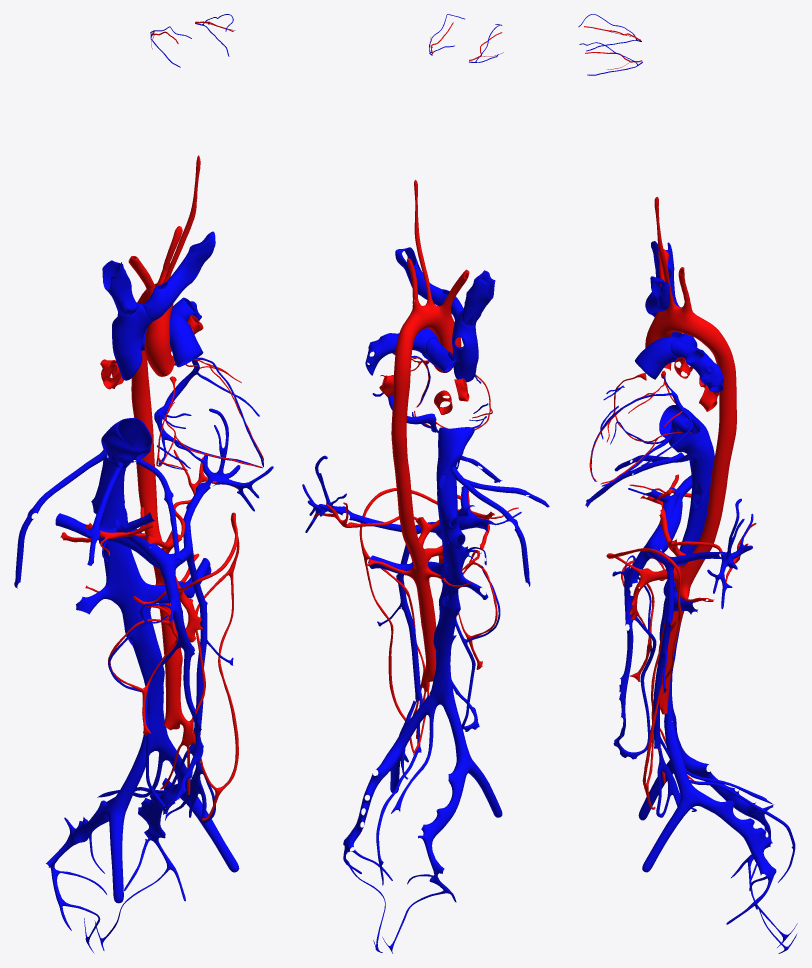
The model's file is vasculature.glb.
3 views of the same model, side by side, from view 1: azimuth 30°, elevation 25°; view 2: azimuth 150°, elevation 25°; view 3: azimuth 270°, elevation 25° (orthographic). The views are drawn at different scales.
Parts seen in each view (by area): view 1: VH_M_inferior_vena_cava_b, VH_M_descending_aorta_b, VH_M_superior_mesenteric_vein, VH_M_inferior_vena_cava_a, VH_M_splenic_vein, VH_M_brachiocephalic_vein_L, VH_M_superior_vena_cava, VH_M_marginal_artery_of_Drummond, VH_M_descending_aorta_a, VH_M_inferior_mesenteric_vein, VH_M_brachiocephalic_vein_R, VH_M_pulmonary_trunk (+18 smaller); view 2: VH_M_inferior_vena_cava_b, VH_M_descending_aorta_b, VH_M_descending_aorta_a, VH_M_inferior_vena_cava_a, VH_M_internal_iliac_vein_R, VH_M_aortic_arch, VH_M_superior_vena_cava, VH_M_splenic_vein, VH_M_brachiocephalic_vein_R, VH_M_brachiocephalic_vein_L, VH_M_internal_iliac_vein_L, VH_M_marginal_artery_of_Drummond (+8 smaller); view 3: VH_M_descending_aorta_a, VH_M_descending_aorta_b, VH_M_inferior_vena_cava_b, VH_M_inferior_vena_cava_a, VH_M_internal_iliac_vein_L, VH_M_aortic_arch, VH_M_splenic_vein, VH_M_superior_mesenteric_vein, VH_M_pulmonary_artery_L, VH_M_inferior_mesenteric_vein, VH_M_marginal_artery_of_Drummond, VH_M_internal_iliac_vein_R (+12 smaller).
Boxes of the visible parts, <box> form: VH_M_inferior_vena_cava_b: <box>91,474,169,753</box>; VH_M_descending_aorta_b: <box>136,459,182,730</box>; VH_M_superior_mesenteric_vein: <box>158,564,203,812</box>; VH_M_inferior_vena_cava_a: <box>101,417,152,482</box>; VH_M_splenic_vein: <box>170,408,273,567</box>; VH_M_brachiocephalic_vein_L: <box>142,231,215,321</box>; VH_M_superior_vena_cava: <box>112,302,152,380</box>; VH_M_marginal_artery_of_Drummond: <box>179,512,239,820</box>; VH_M_descending_aorta_a: <box>131,298,154,461</box>; VH_M_inferior_mesenteric_vein: <box>186,547,207,755</box>; VH_M_brachiocephalic_vein_R: <box>102,260,137,315</box>; VH_M_pulmonary_trunk: <box>169,313,203,367</box>; VH_M_inferior_vena_cava_b: <box>429,489,465,707</box>; VH_M_descending_aorta_b: <box>396,485,436,682</box>; VH_M_descending_aorta_a: <box>391,343,412,489</box>; VH_M_inferior_vena_cava_a: <box>436,427,474,493</box>; VH_M_internal_iliac_vein_R: <box>418,762,468,883</box>; VH_M_aortic_arch: <box>397,304,459,348</box>; VH_M_superior_vena_cava: <box>452,310,478,382</box>; VH_M_splenic_vein: <box>302,455,440,534</box>; VH_M_brachiocephalic_vein_R: <box>461,270,495,325</box>; VH_M_brachiocephalic_vein_L: <box>395,247,463,319</box>; VH_M_internal_iliac_vein_L: <box>343,752,399,853</box>; VH_M_marginal_artery_of_Drummond: <box>359,488,437,752</box>; VH_M_descending_aorta_a: <box>709,334,736,488</box>; VH_M_descending_aorta_b: <box>657,485,726,714</box>; VH_M_inferior_vena_cava_b: <box>659,470,712,722</box>; VH_M_inferior_vena_cava_a: <box>659,405,714,472</box>; VH_M_internal_iliac_vein_L: <box>696,791,776,881</box>; VH_M_aortic_arch: <box>647,306,721,348</box>; VH_M_splenic_vein: <box>645,498,753,609</box>; VH_M_superior_mesenteric_vein: <box>613,546,651,753</box>; VH_M_pulmonary_artery_L: <box>670,338,723,392</box>; VH_M_inferior_mesenteric_vein: <box>653,561,673,749</box>; VH_M_marginal_artery_of_Drummond: <box>606,548,681,809</box>; VH_M_internal_iliac_vein_R: <box>684,757,774,847</box>.
Bounding box in the file's own units: 0.2361 × 0.8718 × 0.1874.
